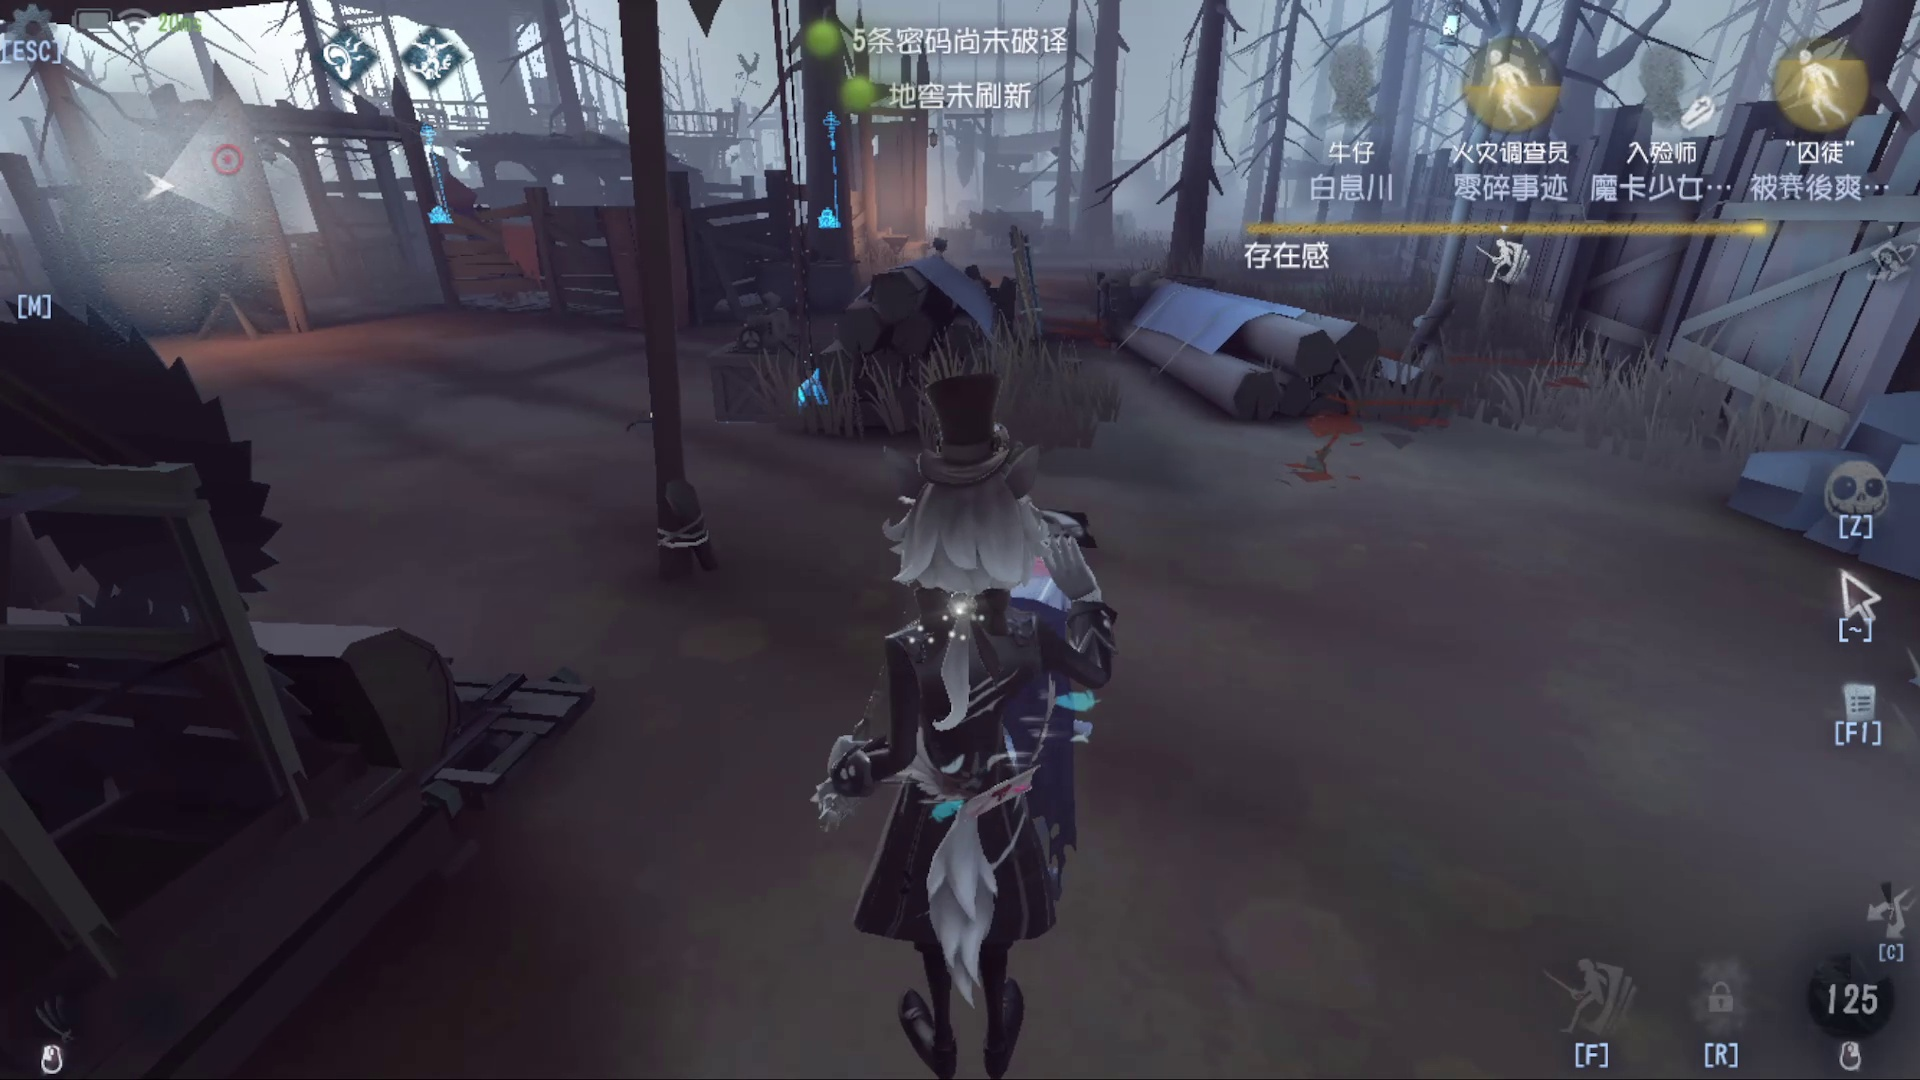密码机: (707, 179, 882, 426), (392, 112, 472, 233), (814, 103, 864, 255)
木板: (982, 208, 1079, 364)
脚印: (1273, 410, 1424, 510)
